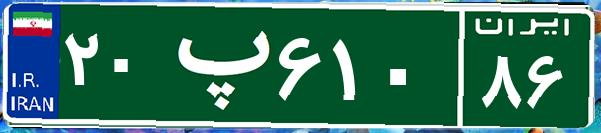0: (385, 28, 445, 110), (110, 28, 158, 105)
1: (330, 28, 385, 110)
2: (57, 26, 110, 107)
6: (273, 28, 330, 110), (525, 38, 570, 115)
8: (475, 38, 525, 113)
پ: (158, 15, 273, 115)
